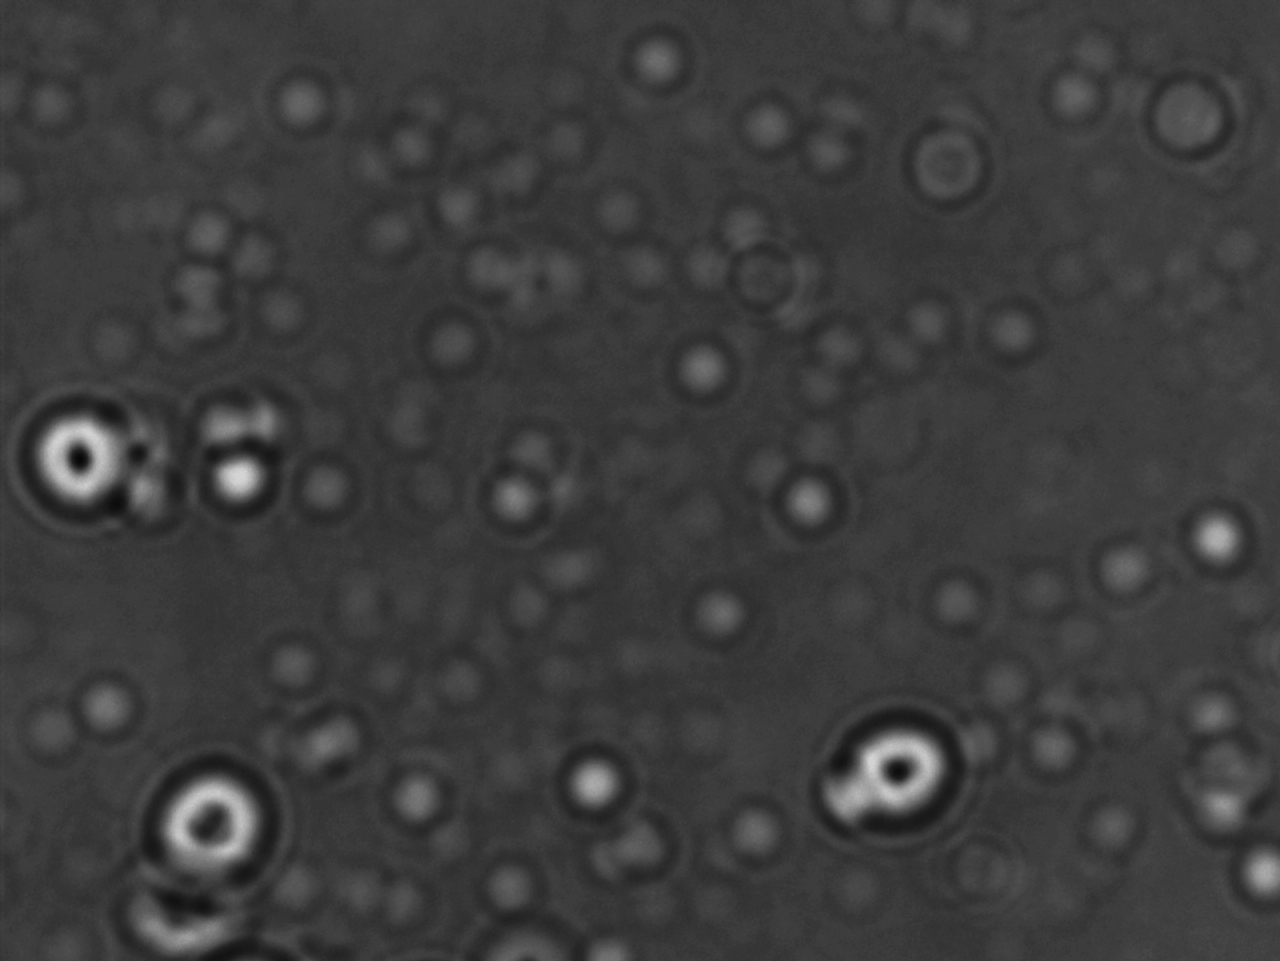depth:24: (817, 687, 969, 840), (136, 746, 289, 893), (8, 389, 162, 527)
